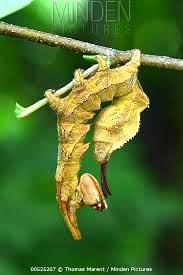Lobster Moth: (41, 45, 157, 245)
